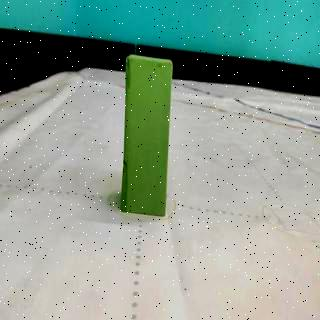greenbox: (122, 53, 174, 221)
